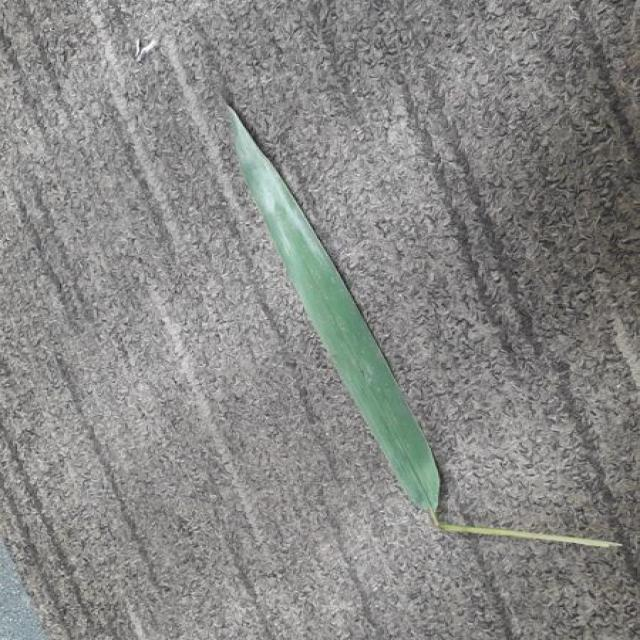Bamboo: (229, 108, 440, 519)
